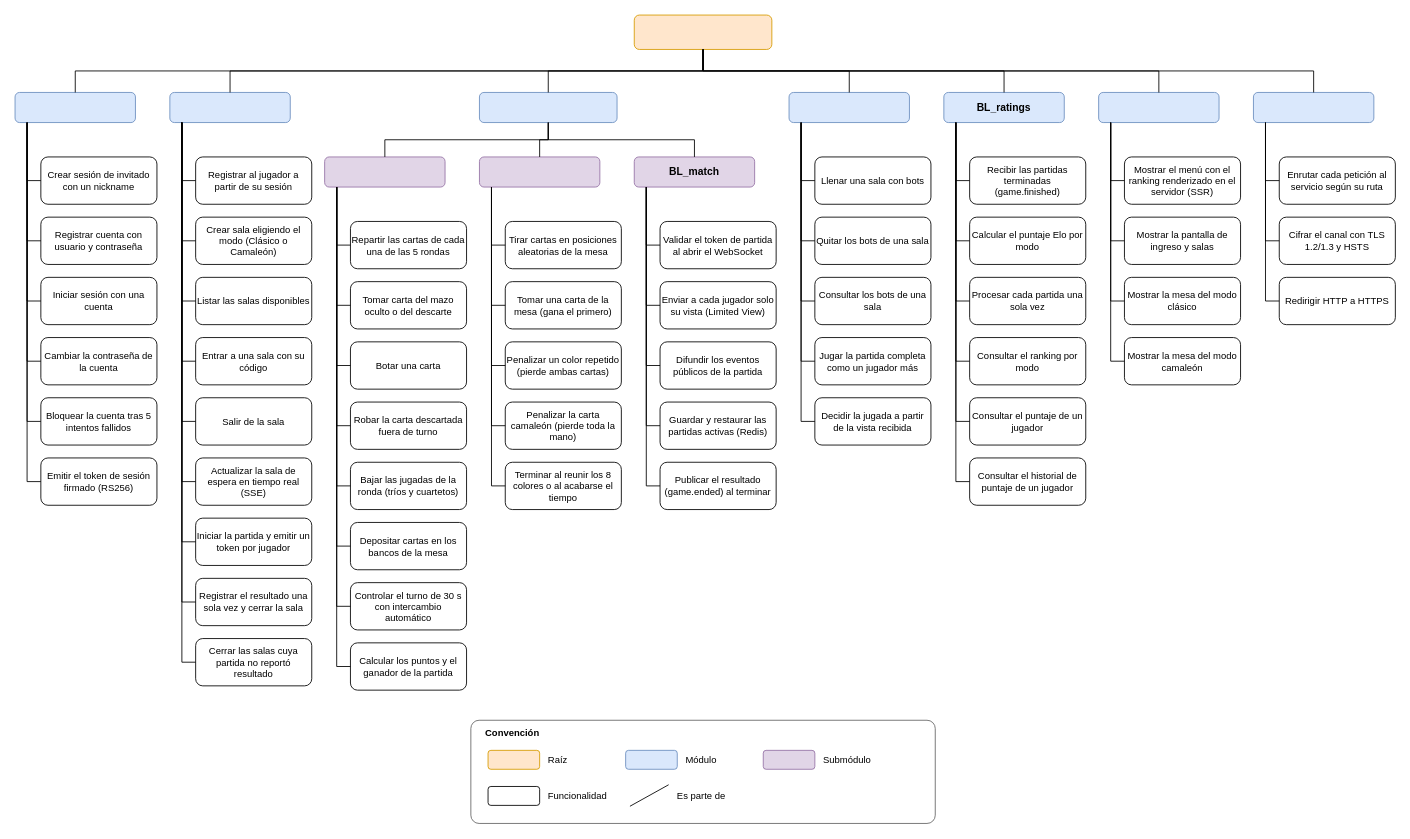
This 1410x839 diagram has some shape labels left out. The shapes that lost their labels are listed below. From the top down, each one's centre as x and y in pixels, then its label:
At (x=702, y=31): "Bololó".
At (x=74, y=107): "BL_auth".
At (x=229, y=107): "BL_lobby".
At (x=548, y=107): "BL_game".
At (x=848, y=107): "BL_bots".
At (x=1158, y=107): "BL_ui".
At (x=1313, y=107): "BL_gateway".
At (x=384, y=171): "BL_classic".
At (x=539, y=171): "BL_chameleon".
